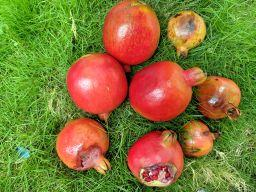pomegranate: (130, 60, 207, 123), (67, 52, 128, 120), (103, 0, 161, 71), (126, 129, 185, 188), (55, 117, 111, 174), (196, 76, 243, 122), (168, 9, 206, 56), (179, 120, 222, 158)
